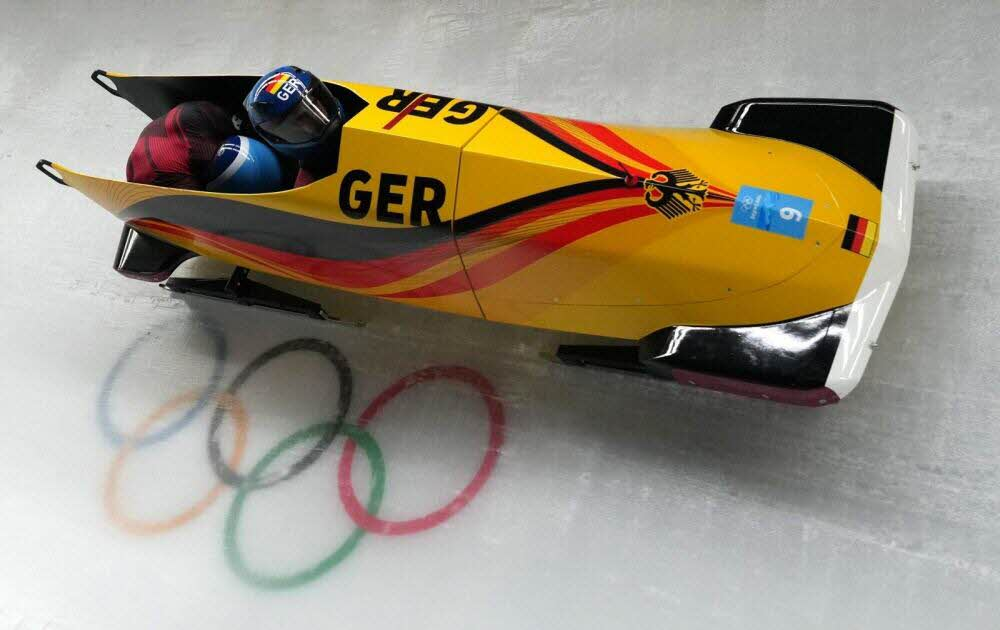Bobsleigh: (35, 71, 918, 402)
